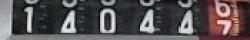digits: (59, 8, 77, 36), (176, 9, 194, 36), (99, 7, 116, 34), (139, 8, 155, 35), (22, 4, 33, 34), (213, 0, 229, 18)
